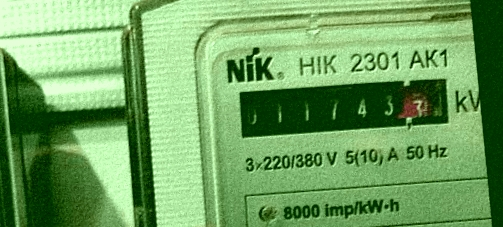0: (244, 99, 260, 127)
1: (298, 94, 314, 124), (271, 96, 287, 125)
3: (379, 90, 396, 119), (409, 98, 426, 120)
4: (354, 94, 370, 120)
7: (326, 95, 342, 121)
screen: (229, 65, 460, 151)
